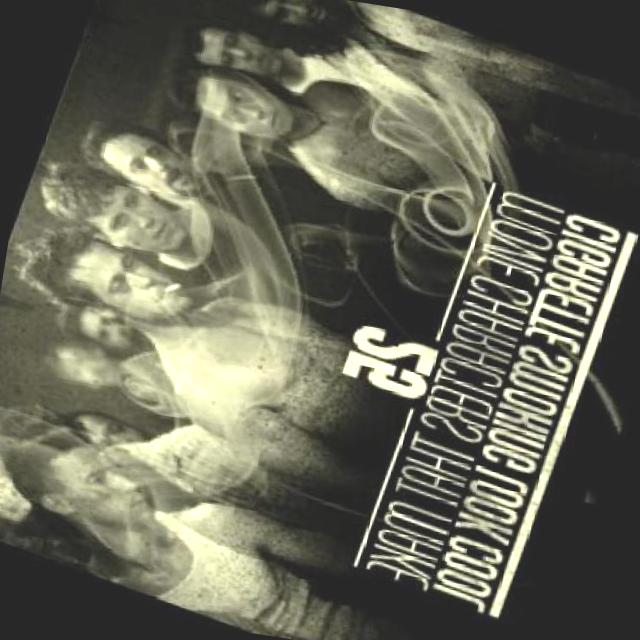cigarette: (158, 279, 183, 301)
